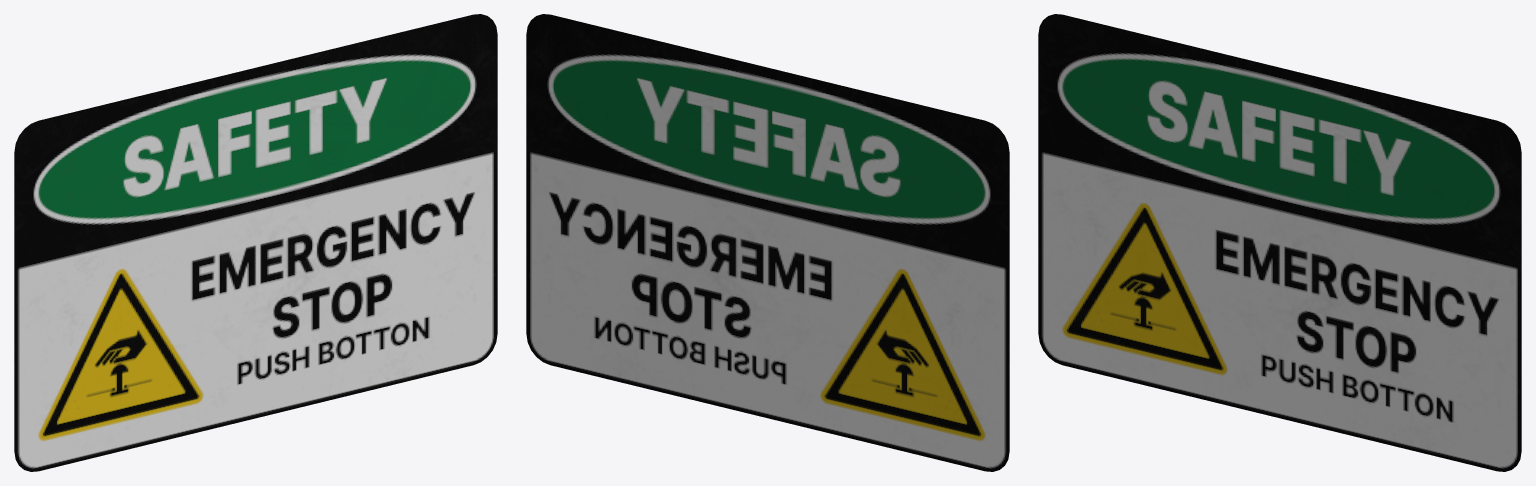
The model's file is SM05_Decals_SafetySign_EmergencyStop.fbx.
3 renders of one model, left to right at view 1: azimuth 30°, elevation 25°; view 2: azimuth 150°, elevation 25°; view 3: azimuth 330°, elevation 25°, orthographic.
Visible parts, largest first — view 1: SM05_Decals_SafetySign_EmergencyStop; view 2: SM05_Decals_SafetySign_EmergencyStop; view 3: SM05_Decals_SafetySign_EmergencyStop.
Boxes of the visible parts, bbox=[...] form: SM05_Decals_SafetySign_EmergencyStop: bbox=[14, 14, 497, 471]; SM05_Decals_SafetySign_EmergencyStop: bbox=[526, 14, 1009, 471]; SM05_Decals_SafetySign_EmergencyStop: bbox=[1038, 14, 1521, 471].
Bounding box in the file's own units: 0.8466 × 0.5873 × 9.57e-08.
